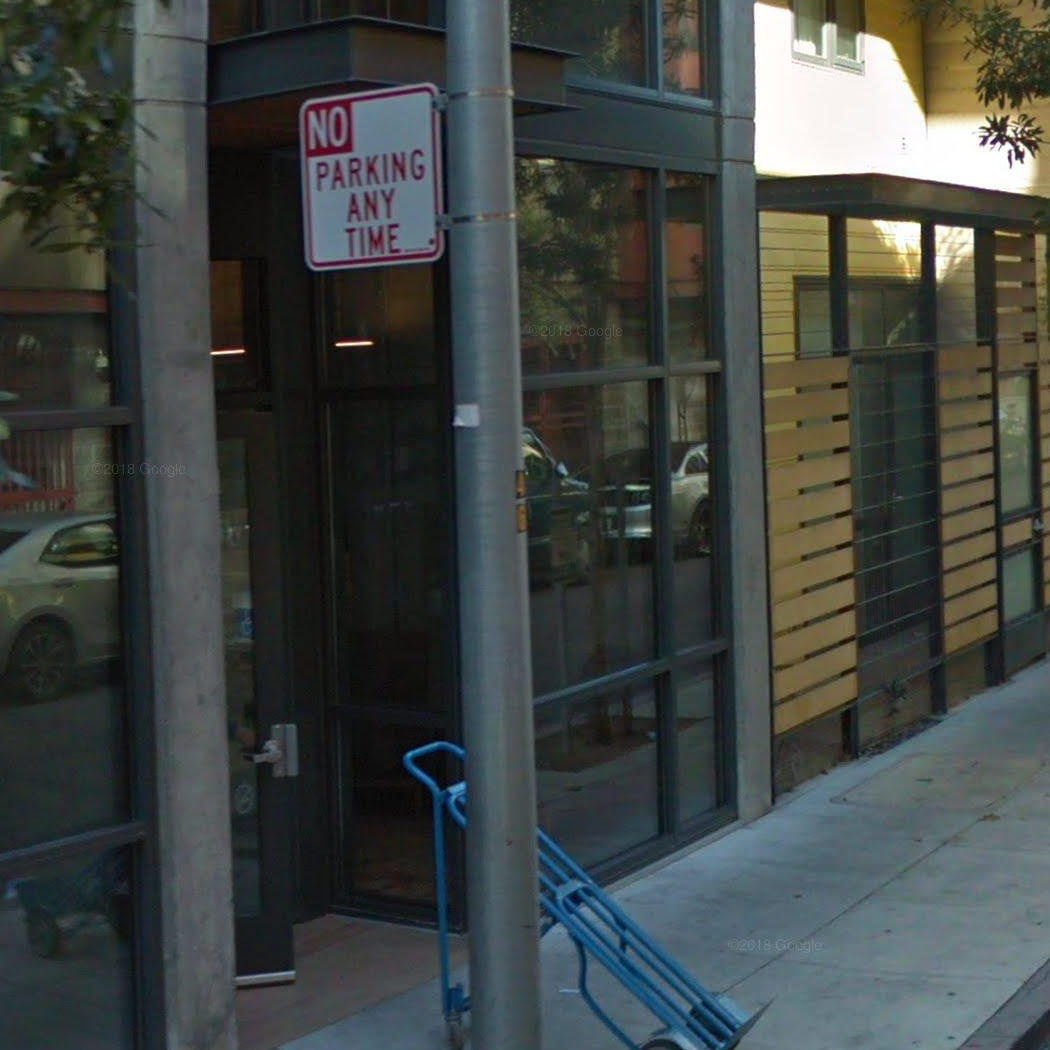No Parking Anytime: (296, 79, 447, 273)
